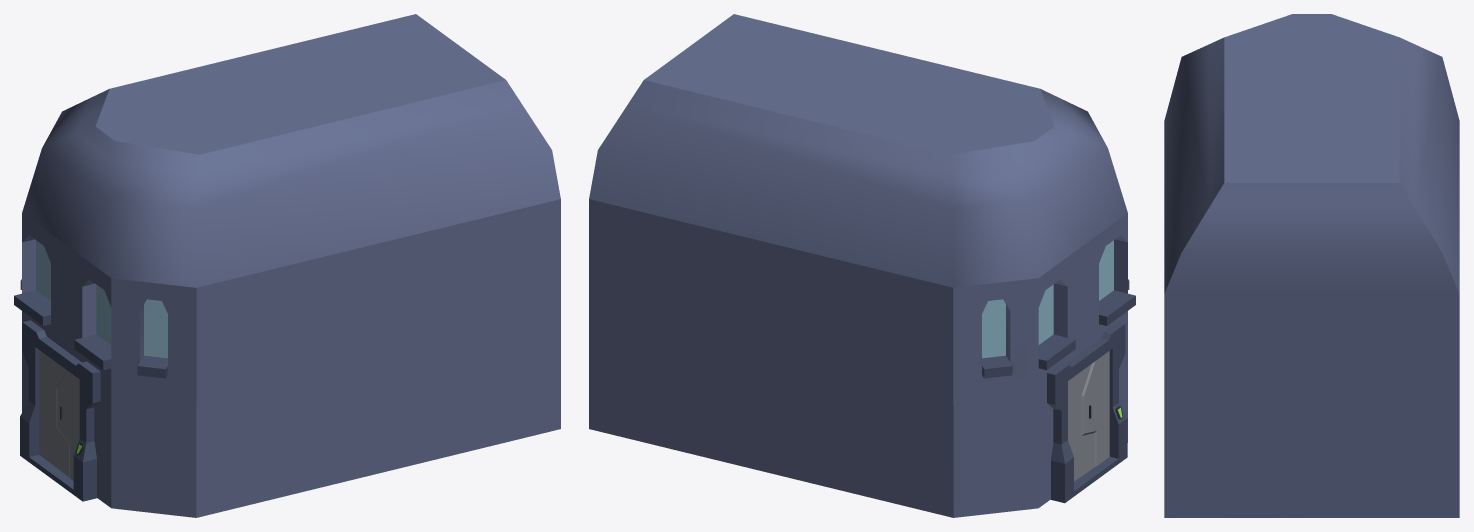
File: NorthWest_House_02.fbx
3 views of the same model, side by side, from view 1: azimuth 30°, elevation 25°; view 2: azimuth 150°, elevation 25°; view 3: azimuth 270°, elevation 25° (orthographic). The views are drawn at different scales.
Visible parts, largest first — view 1: NorthWest_House_02; view 2: NorthWest_House_02; view 3: NorthWest_House_02.
Part boxes in pixels (<box>): NorthWest_House_02: <box>14,14,560,517</box>; NorthWest_House_02: <box>589,14,1135,517</box>; NorthWest_House_02: <box>1164,14,1459,517</box>.
Bounding box in the file's own units: 21.59 × 15.87 × 13.11.
1 material, 1 textured.
